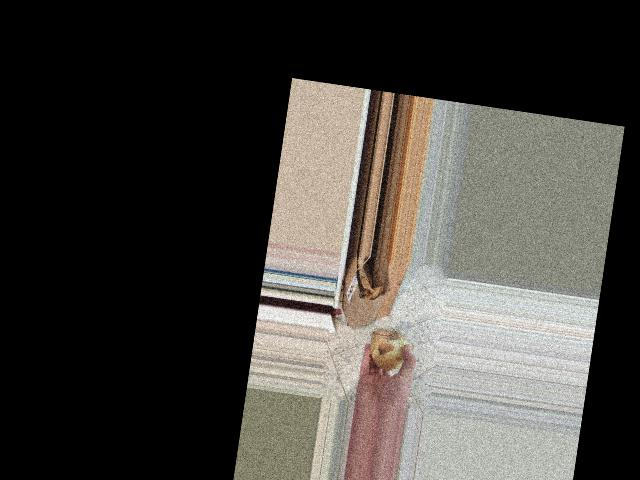onion: (365, 325, 417, 378)
